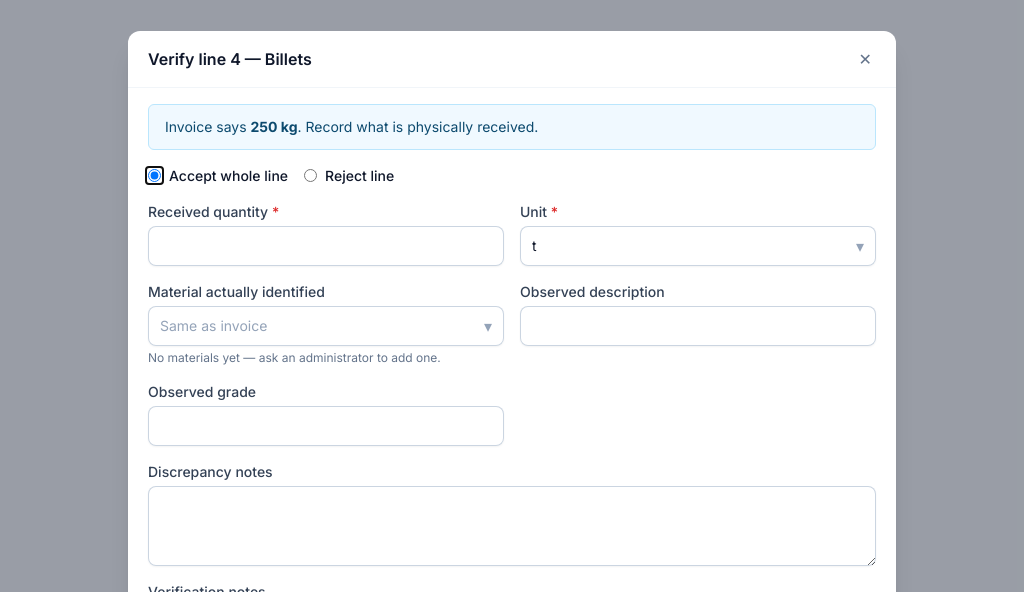
Scenario: Unit-aware verification › treats 0.25 t received against a 250 kg invoice line as a match
The width and height of the screenshot is (1024, 592).
Expected: the dropdown labelled "Unit *" holds "t", [520,226,876,266]
Step 1. Type "0.25" into the number field labelled "Received quantity *" → point(326, 246), box [148,226,504,266]
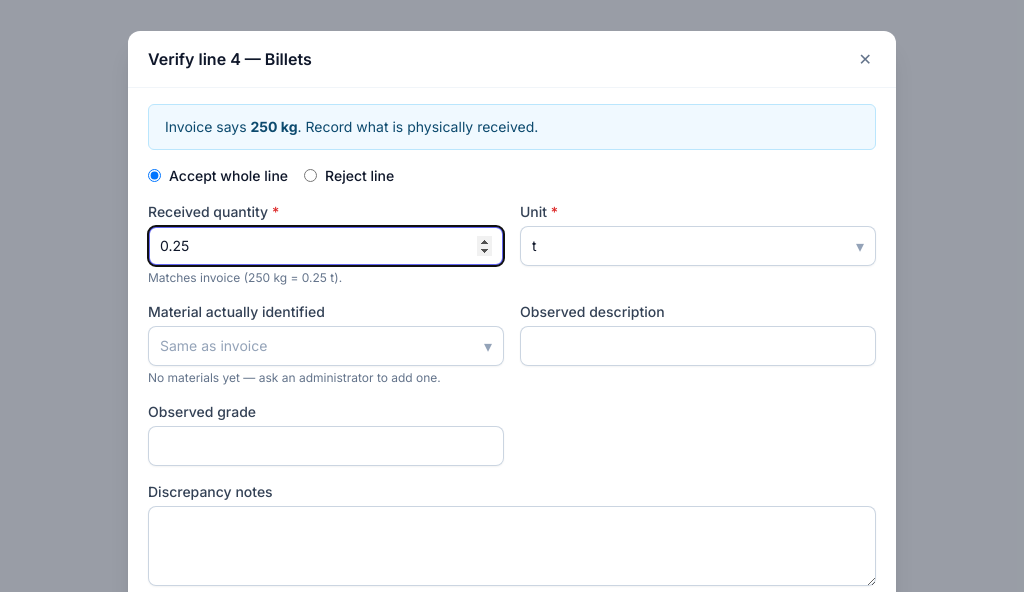
Expected: the text "will be flagged" is not shown
Expected: the text "Matches invoice (250 kg = 0.25 t)." is shown, [148,270,342,285]
Step 2. Replace the text in the number field labelled "Received quantity *" with "0.248" → point(326, 246), box [148,226,504,266]
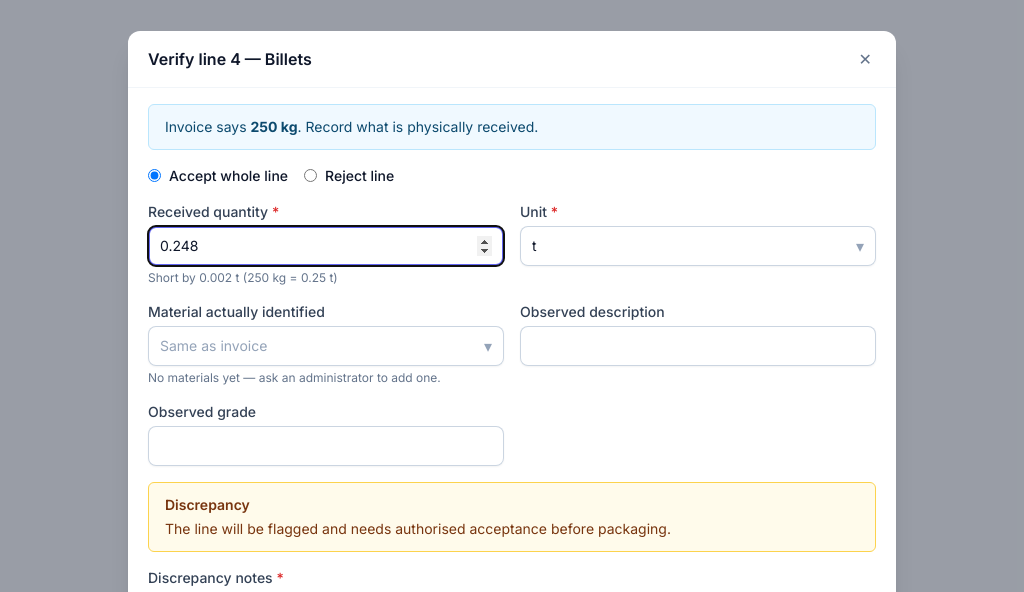
Expected: the text "Short by 0.002 t (250 kg = 0.25 t)" is shown, [148,270,338,285]
